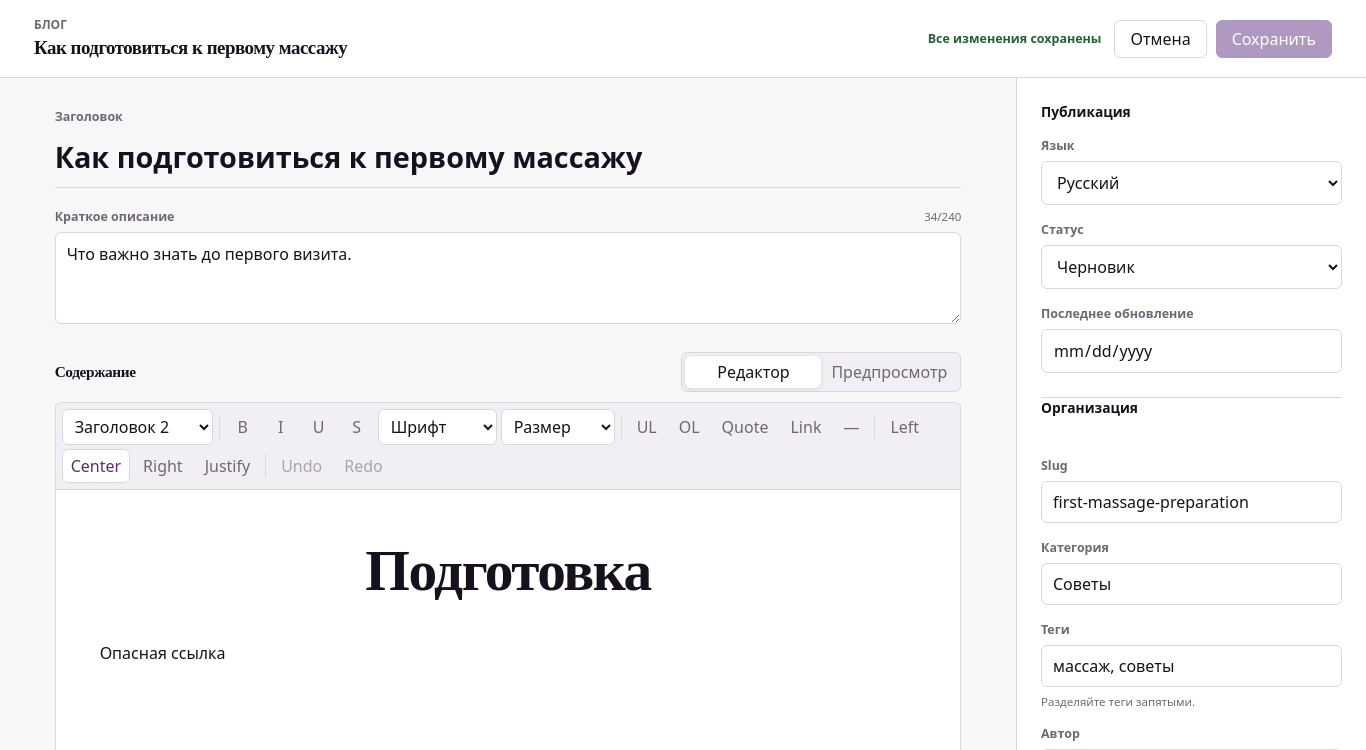
Scenario: BlogArticleEditor › shows sanitized HTML in preview and provides an accessible link editor
Step 1. Click the tab "Предпросмотр" → (889, 372), box [821,356,957,388]
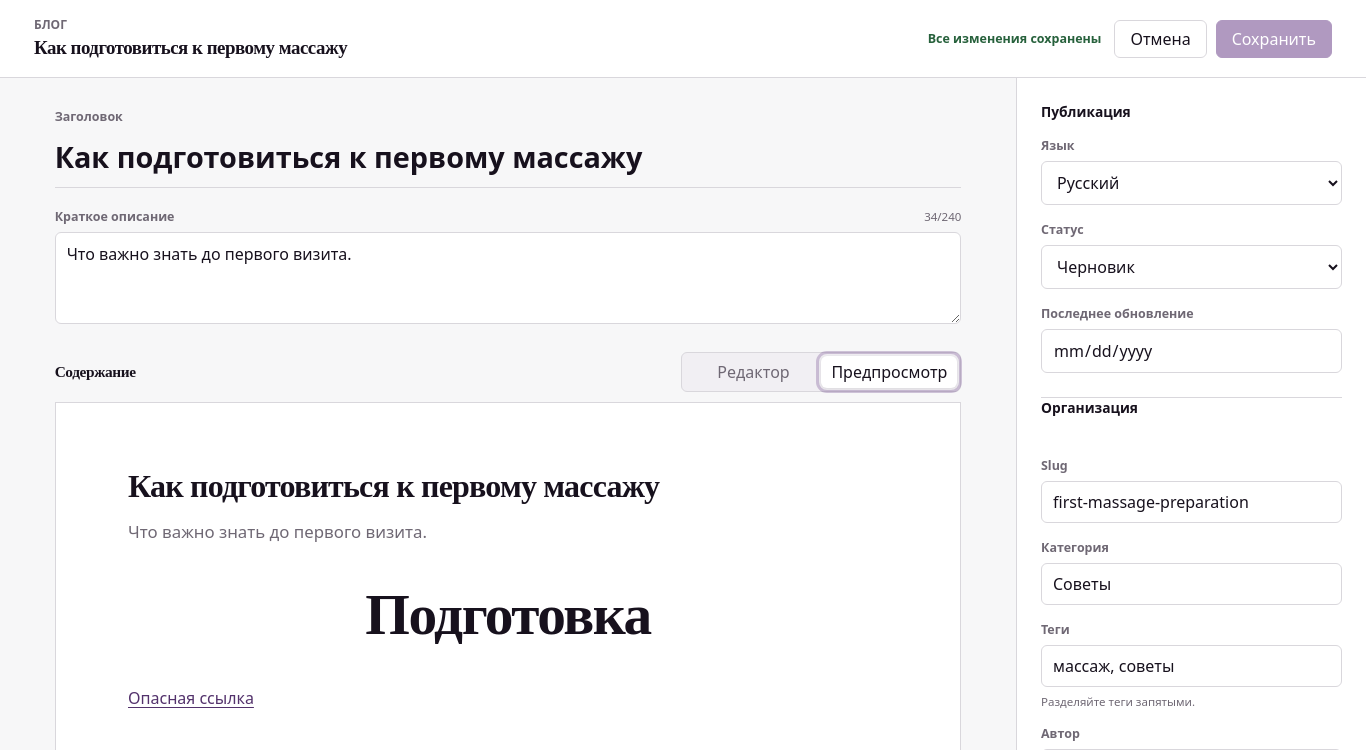
Expected: the panel "Предпросмотр" does not show "javascript:"
Now the panel named "Предпросмотр" shows "Подготовка", box [365,583,651,646]
Step 2. Click the tab "Редактор" → (754, 372), box [686,356,822,388]
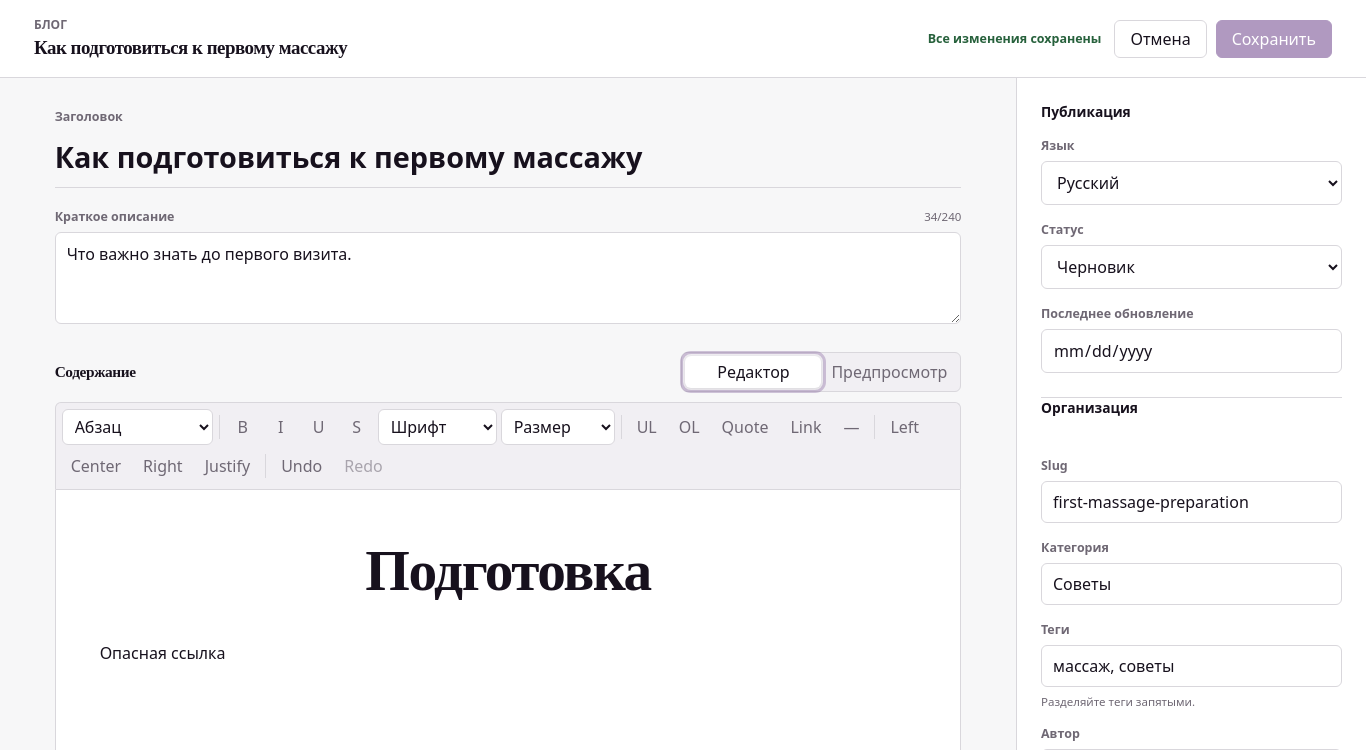
Step 3. Click the button with aria-label "Ссылка" → (806, 427), box [782,410,830,444]
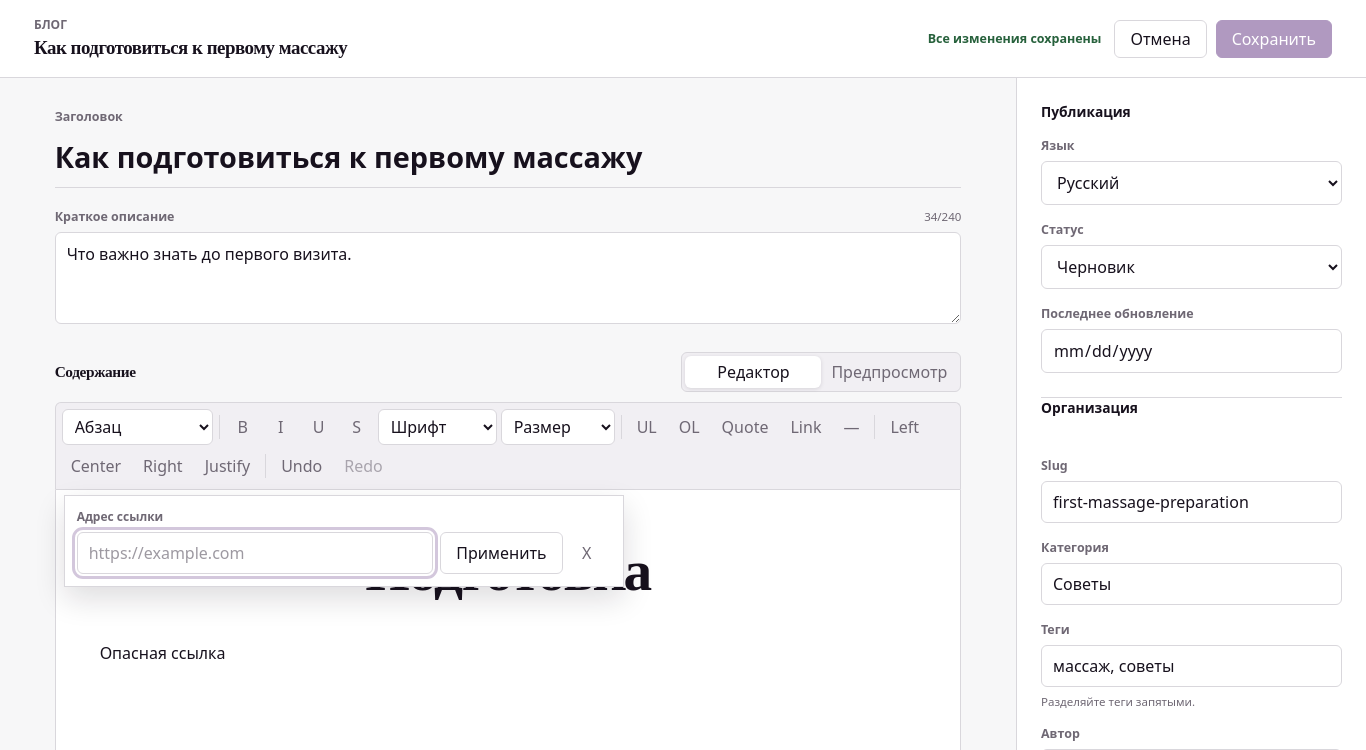
Step 4. Type "javascript:alert(1)" into the field labelled "Адрес ссылки" → (255, 553), box [77,532,433,574]
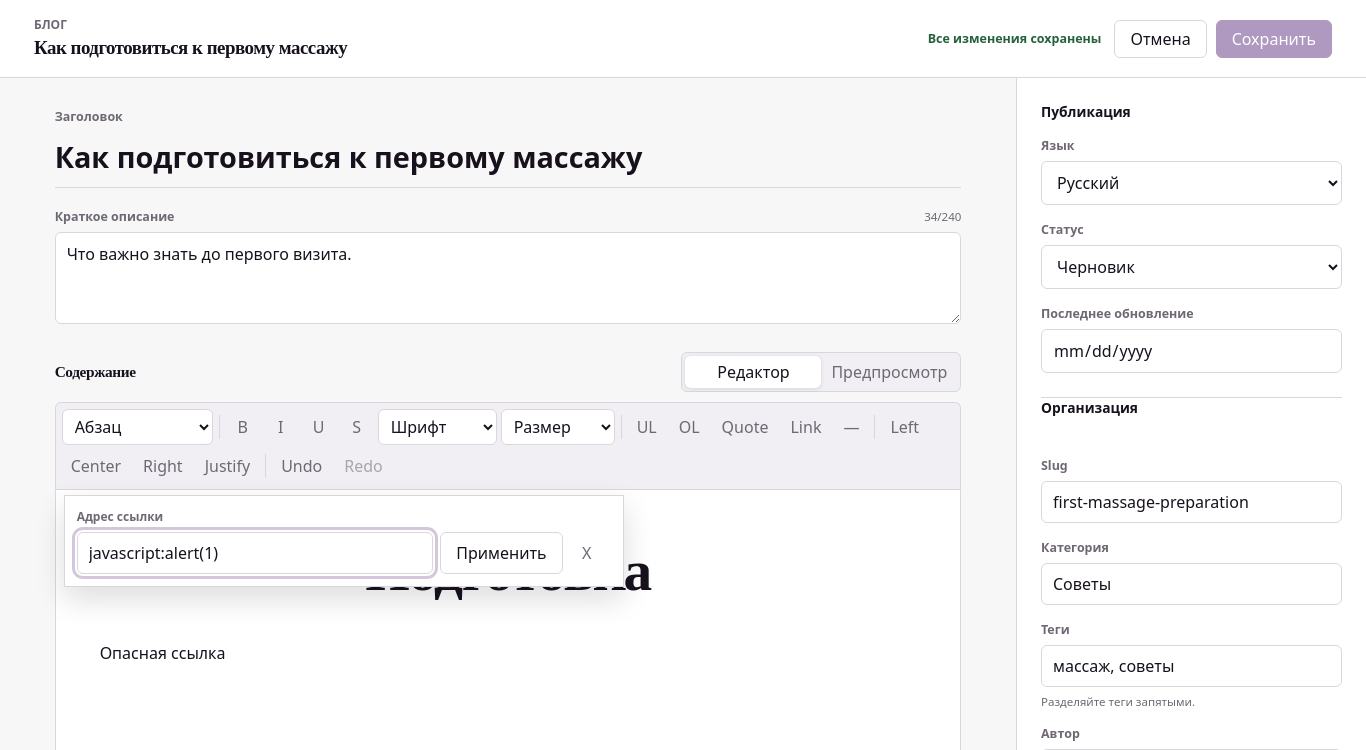
Step 5. Click the button "Применить" → (501, 553), box [440,532,563,574]
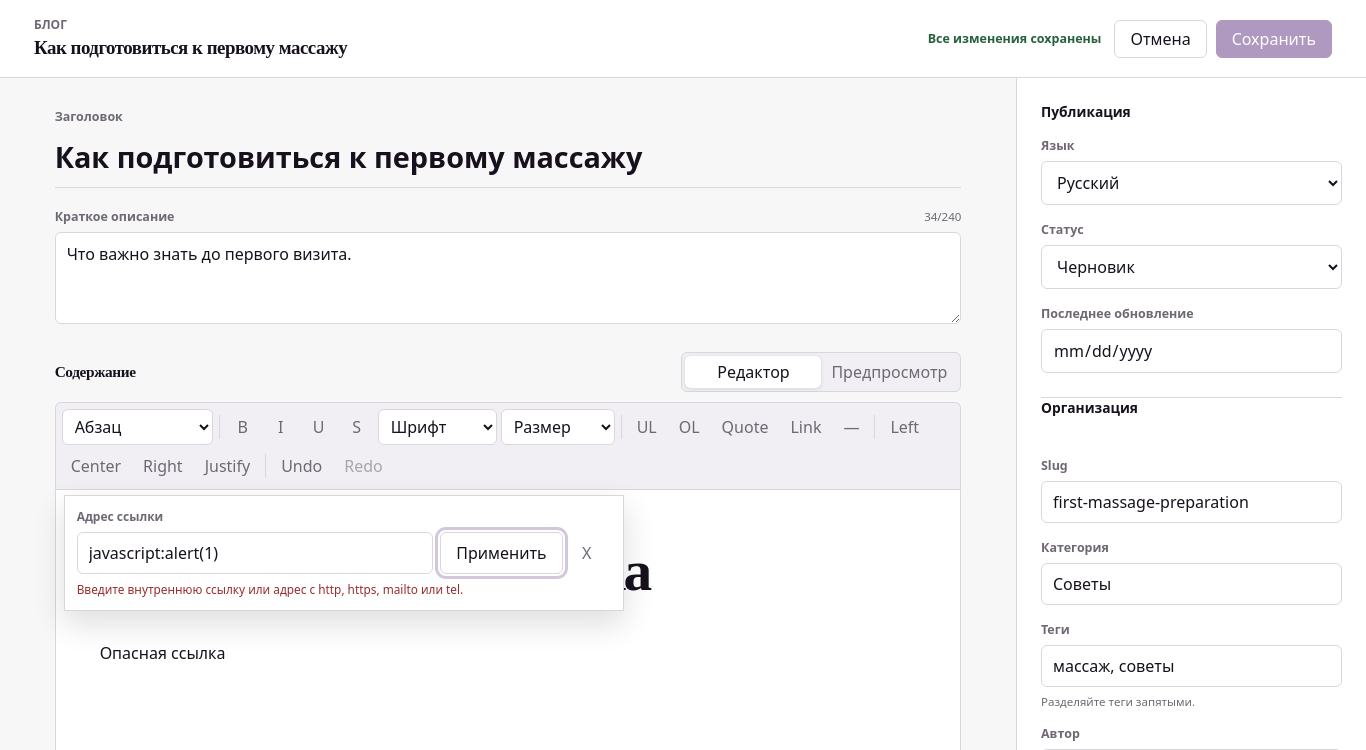
Now the message "Введите внутреннюю ссылку или адрес с http, https, mailto или tel." is shown, box [77,581,463,597]
